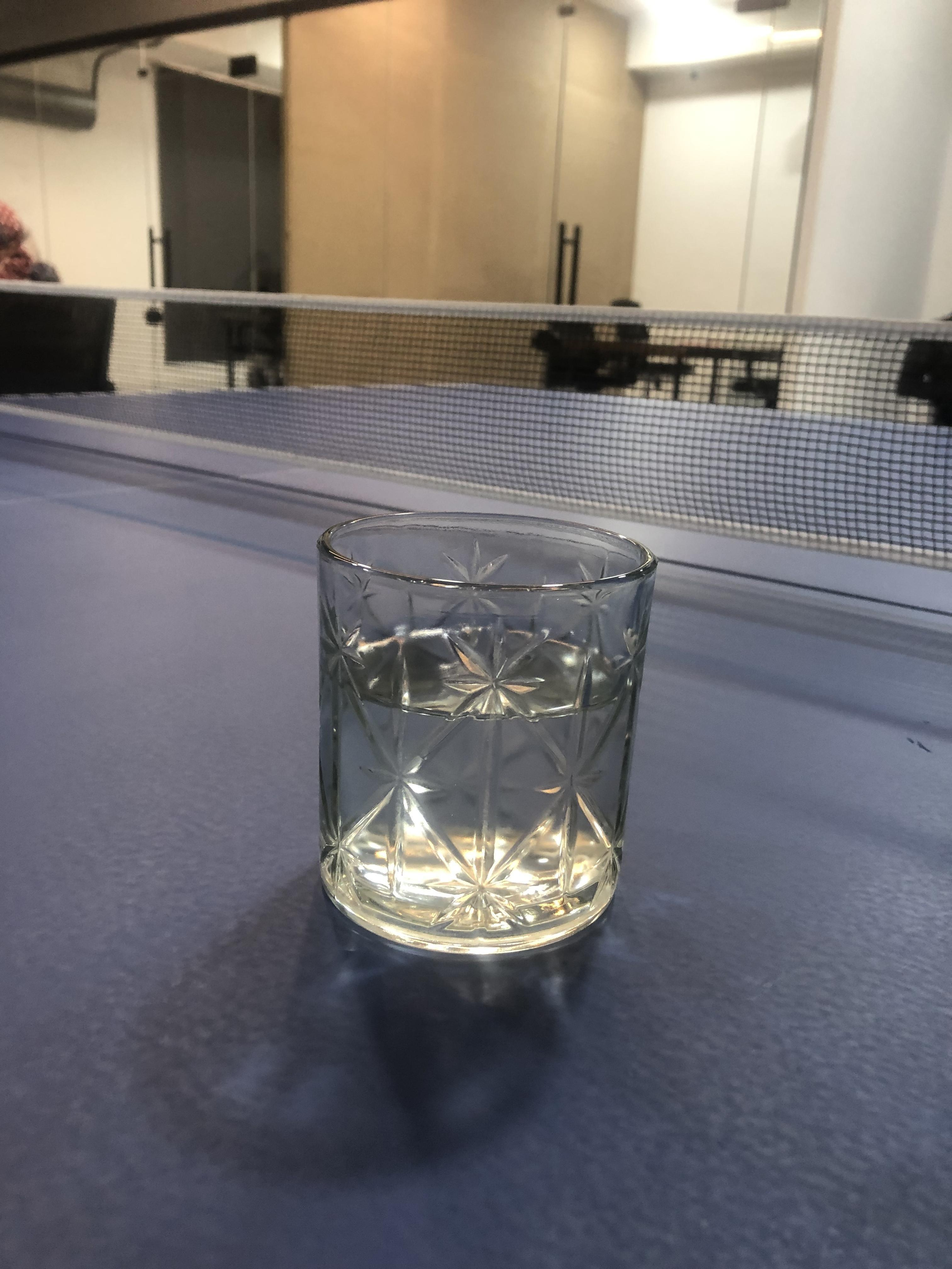glass-normal: (294, 502, 664, 990)
